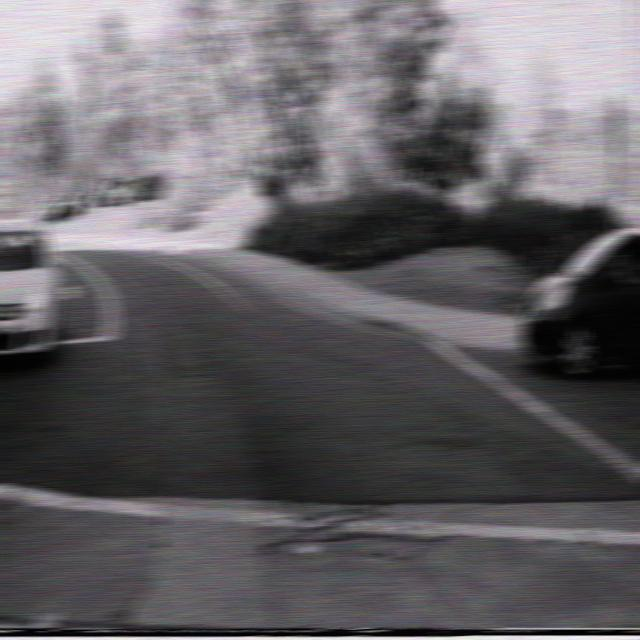pedestrianCrossing: (55, 165, 76, 195)
